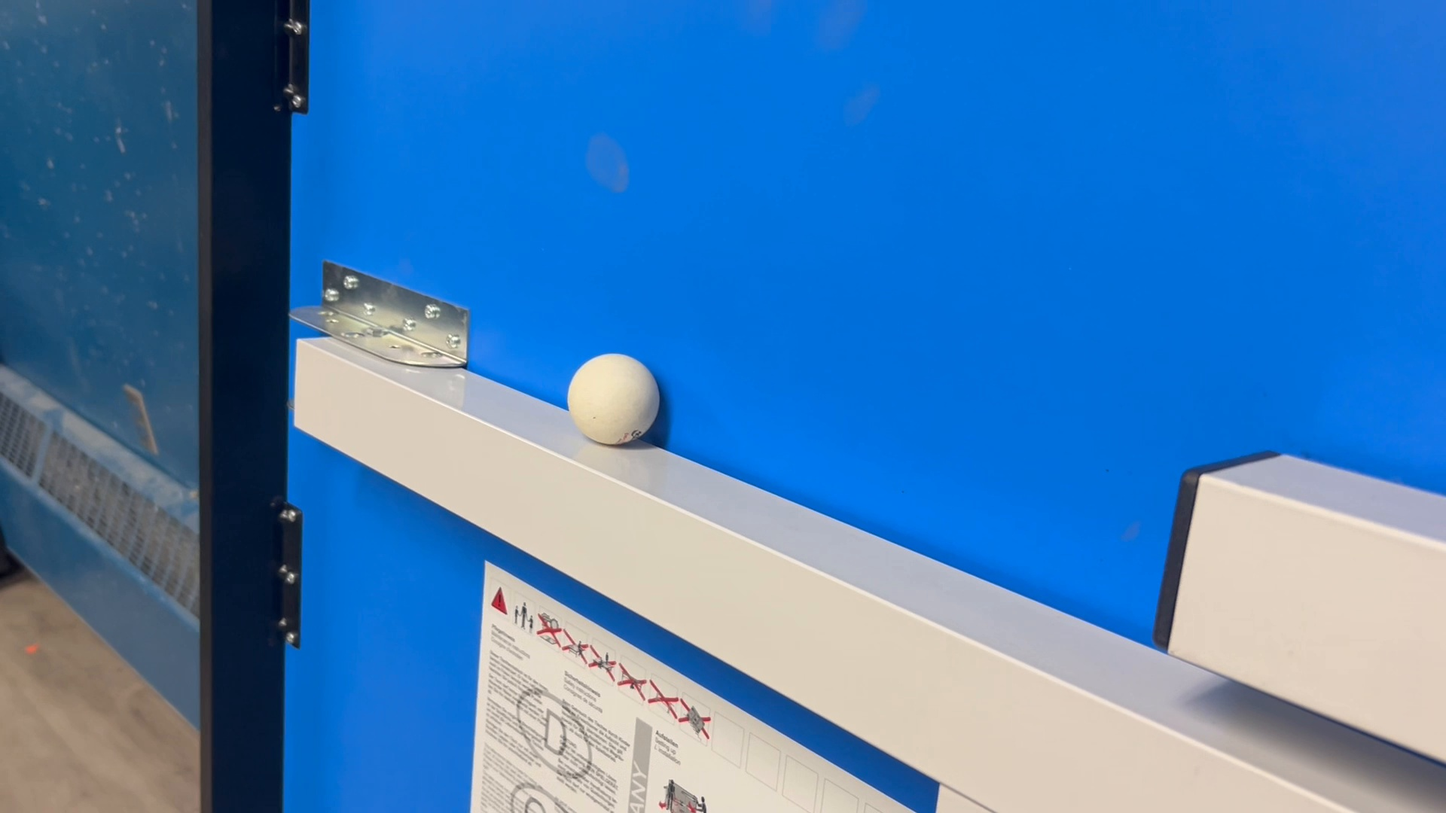Ball: (538, 342, 701, 451)
